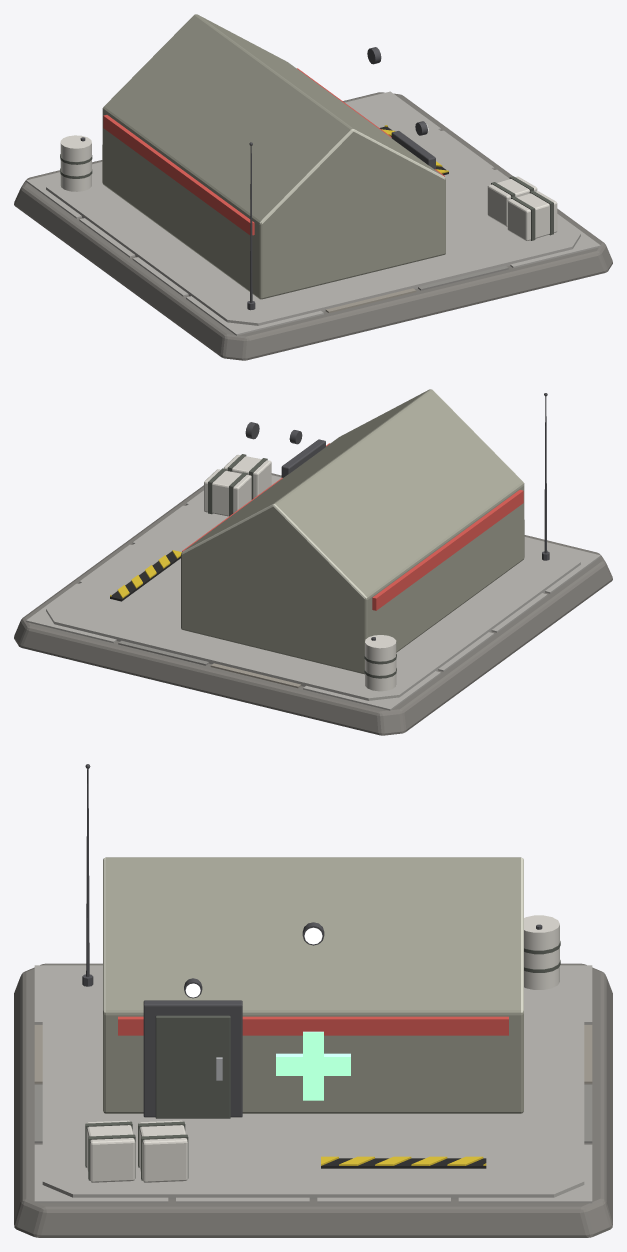
File: field_hospital_red.glb
3 renders of one model, top to bottom at view 1: azimuth 30°, elevation 25°; view 2: azimuth 150°, elevation 25°; view 3: azimuth 270°, elevation 25°, orthographic. The views are drawn at different scales.
Visible parts, largest first — view 1: Body; view 2: Body; view 3: Body.
Boxes of the visible parts, bbox=[...] form: Body: bbox=[14, 14, 612, 360]; Body: bbox=[14, 389, 612, 735]; Body: bbox=[14, 764, 612, 1237].
Size of the model in its own units: 3.98 by 1.86 by 3.98.
1 material, 1 textured.
